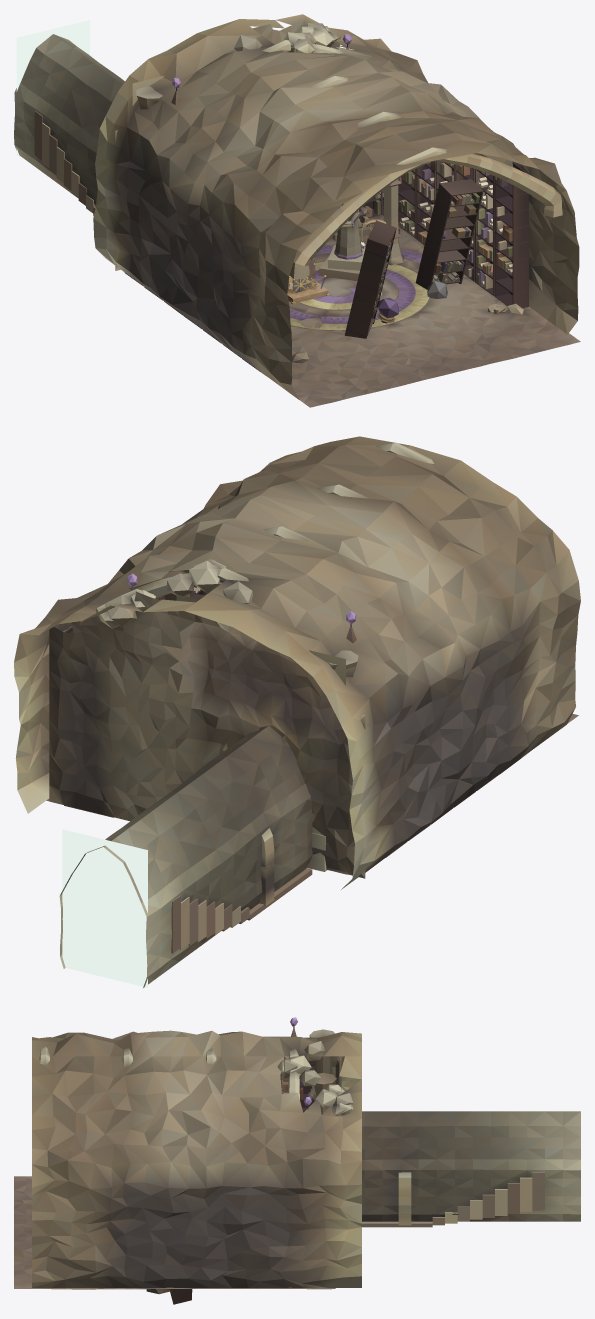
Rendered from archive_set.glb.
The picture shows the model from 3 angles, top to bottom: view 1: azimuth 30°, elevation 25°; view 2: azimuth 150°, elevation 25°; view 3: azimuth 270°, elevation 25°; orthographic projection. The views are drawn at different scales.
Visible parts, largest first — view 1: StaticSet, FgRight, FgLeft, Base; view 2: StaticSet; view 3: StaticSet, FgRight.
Part boxes in pixels (x1=…): StaticSet: x1=14, y1=14, x2=580, y2=407; FgRight: x1=415, y1=179, x2=483, y2=298; FgLeft: x1=344, y1=220, x2=398, y2=338; Base: x1=287, y1=258, x2=329, y2=304; StaticSet: x1=14, y1=436, x2=580, y2=987; StaticSet: x1=14, y1=1017, x2=580, y2=1289; FgRight: x1=146, y1=1289, x2=192, y2=1304.
Bounding box in the file's own units: 20.94 × 16.9 × 40.9.
